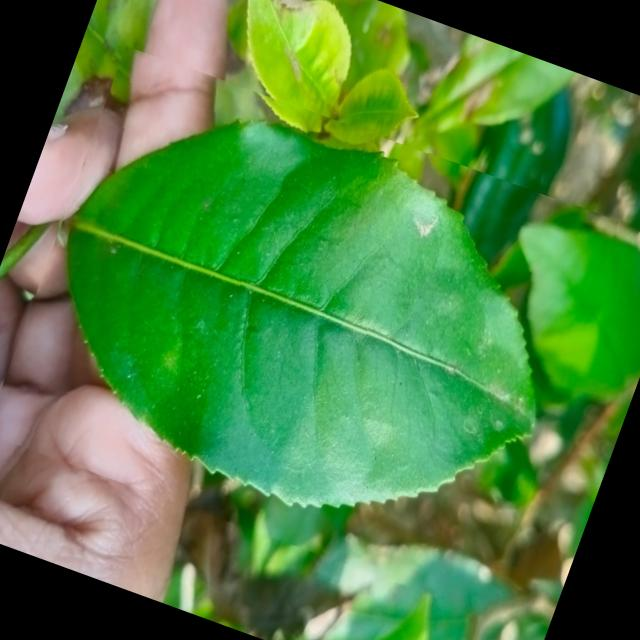Category D 7+ days, Not for Tea: (0, 41, 626, 614)
